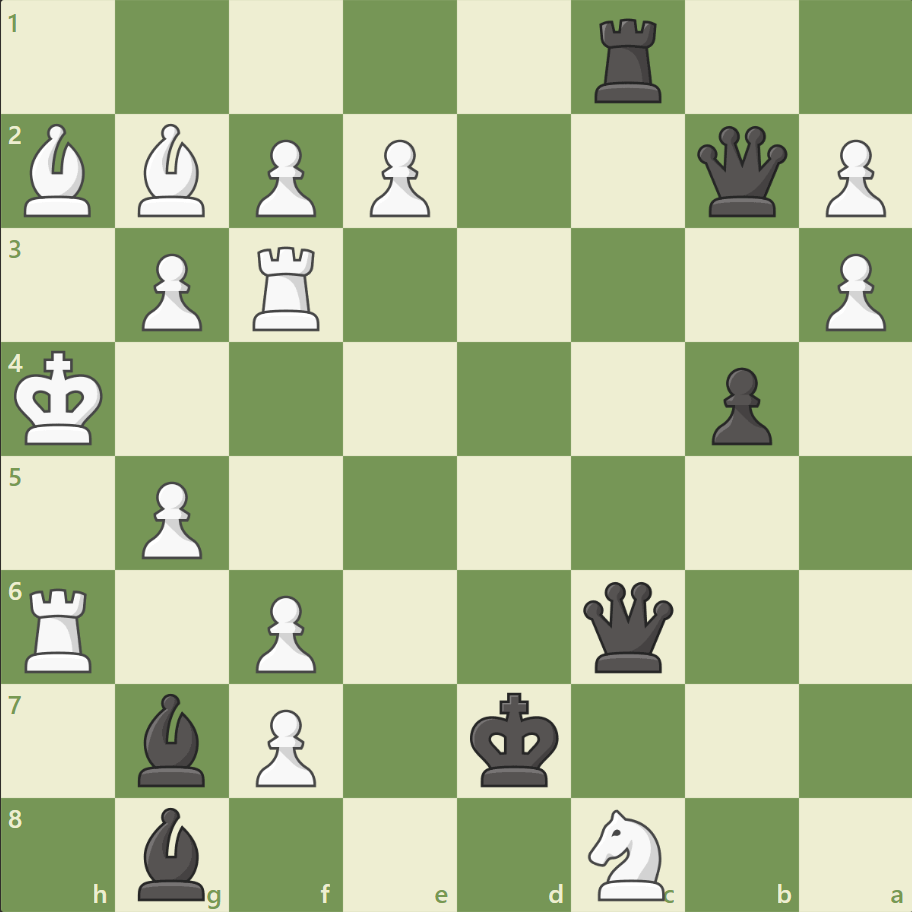B: (131, 120, 215, 222), (17, 120, 101, 222)
K: (11, 344, 111, 452)
N: (579, 802, 676, 904)
P: (247, 700, 322, 791), (247, 586, 322, 677), (133, 473, 208, 564), (133, 246, 208, 337), (247, 132, 322, 223), (815, 246, 889, 337), (815, 132, 889, 223), (361, 132, 435, 223)
R: (19, 579, 102, 676), (246, 239, 329, 336)
b: (131, 801, 215, 904), (131, 687, 215, 790)
k: (465, 685, 565, 793)
p: (701, 359, 776, 450)
q: (578, 576, 677, 676), (691, 122, 790, 222)
r: (587, 12, 670, 109)
